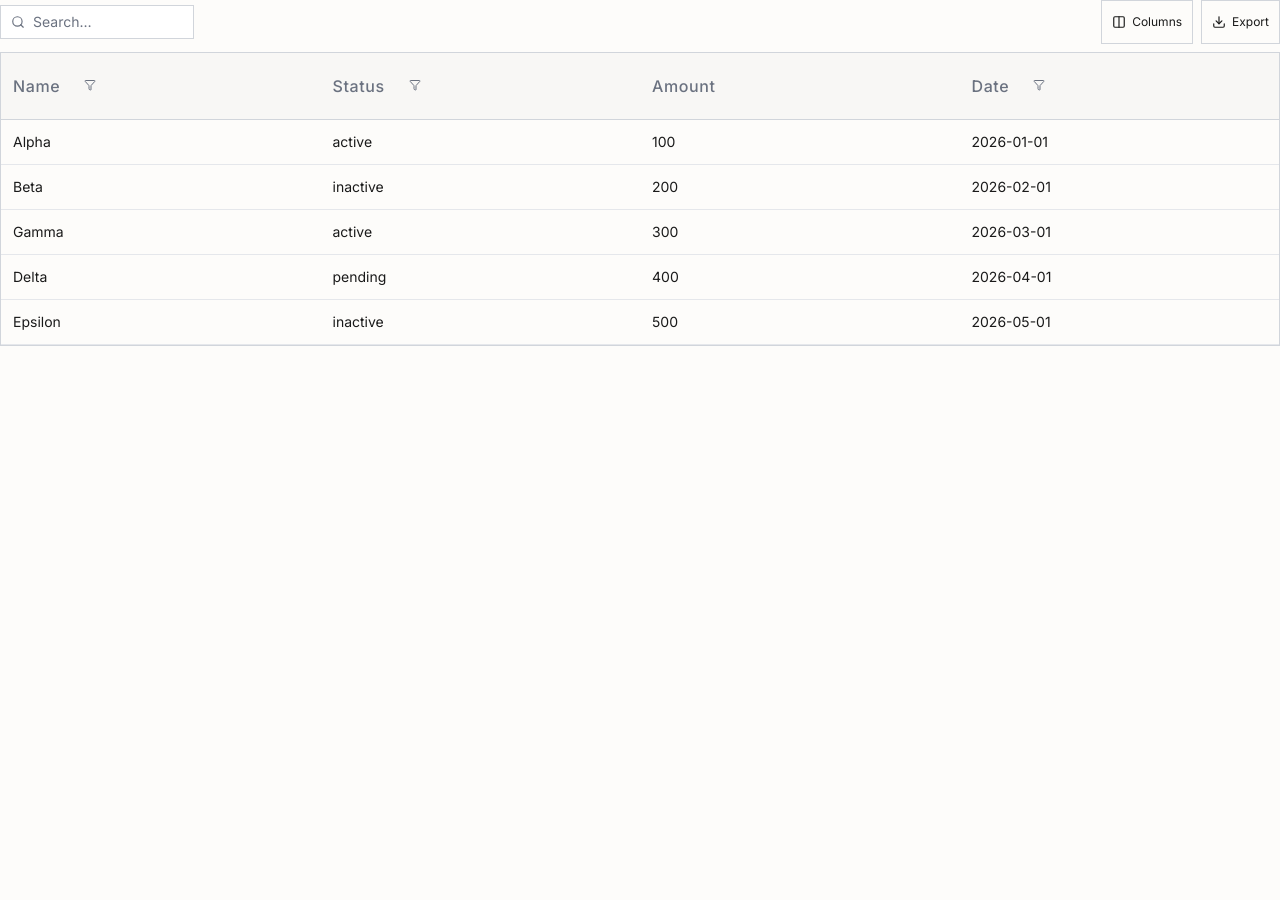
Test case: DataTable — column visibility › opens column visibility menu on click
The width and height of the screenshot is (1280, 900).
What coordinates should you click on to do the following:
click the button with aria-label "Toggle column visibility"
I would click on:
 (1147, 22)
Its box is x1=1101 y1=0 x2=1193 y2=44.
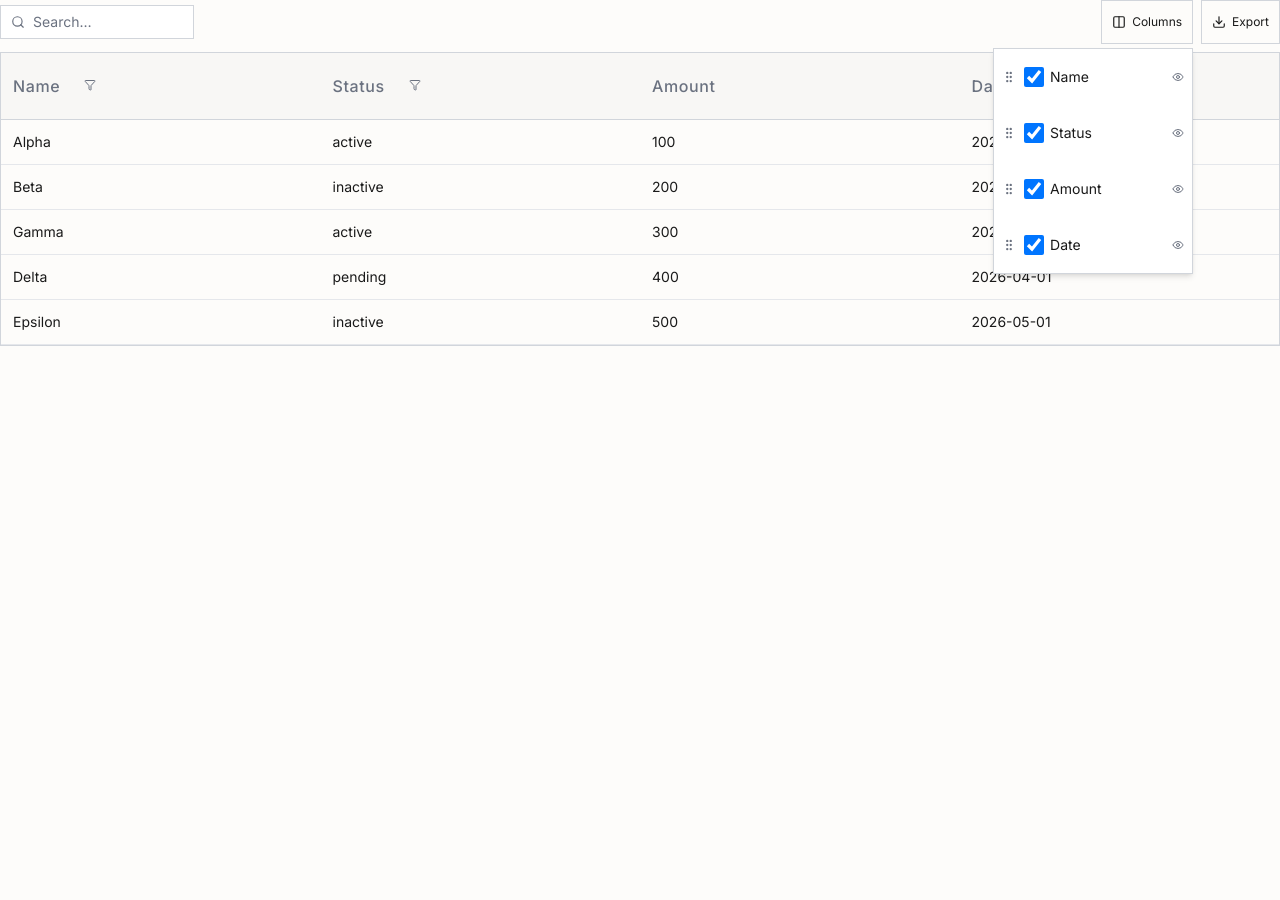
Expected: the dialog named "Column visibility" is shown, x1=993 y1=48 x2=1193 y2=274
